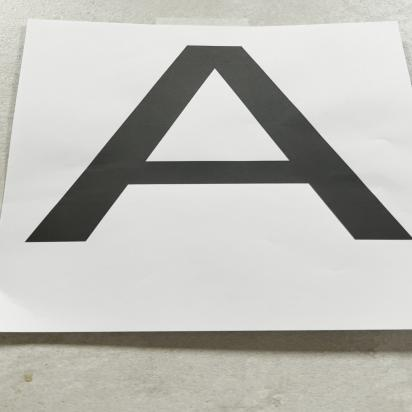seat: (17, 22, 412, 281)
